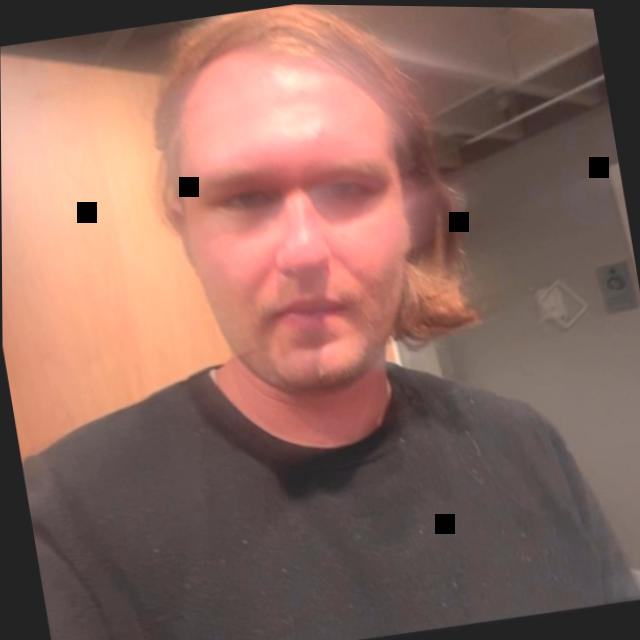NO-Mask: (108, 1, 537, 470)
